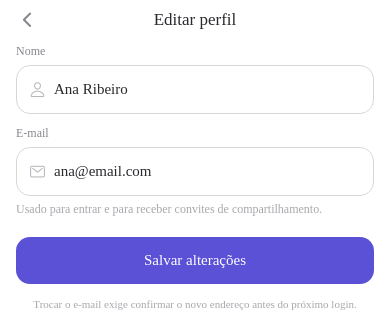
Test case: Editar perfil › acusa e-mail inválido
Step 1. Replace the text in the 2nd field showing "ana@email.com" with "quebrado" → (208, 172), box [54, 148, 361, 195]
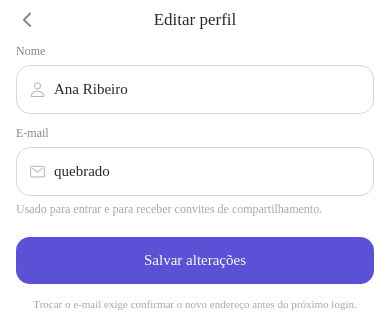
Step 2. Click the button "Salvar alterações" → (195, 260), box [16, 237, 374, 284]
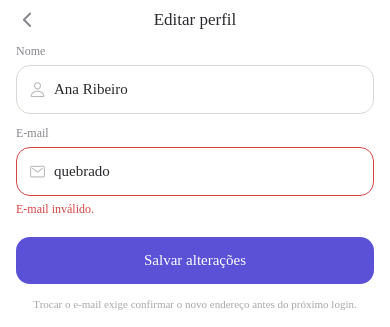
Expected: the text "E-mail inválido." is shown, [16, 202, 94, 216]
